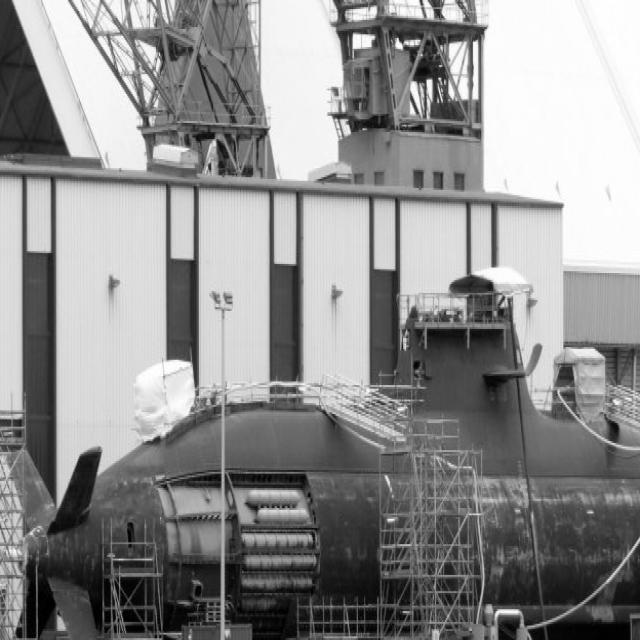submarine: (17, 314, 640, 640)
